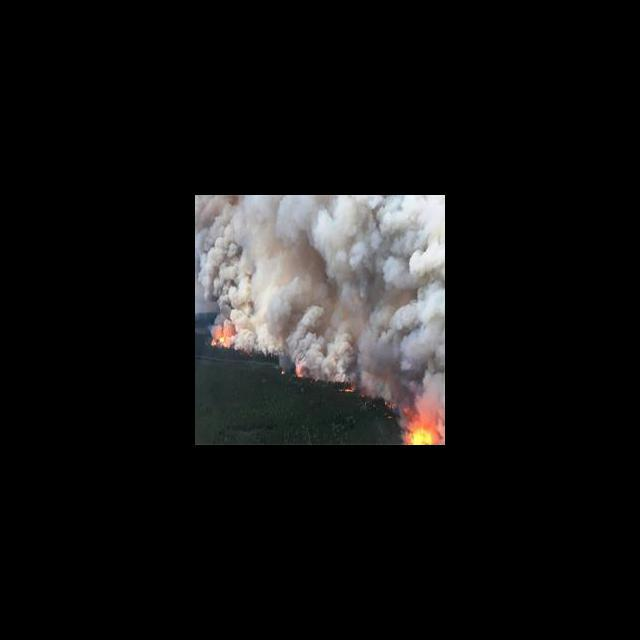Fire: (398, 415, 442, 444), (216, 327, 232, 346)
Smoke: (208, 195, 444, 410)
